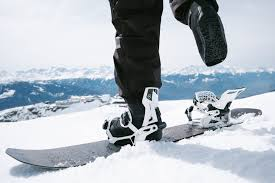snowboard: (4, 105, 264, 170)
